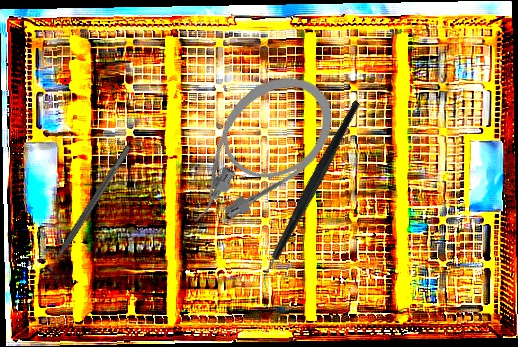Cannula: (154, 56, 353, 246)
Chopper: (208, 99, 414, 297)
Fixation Ring: (36, 139, 140, 285)
